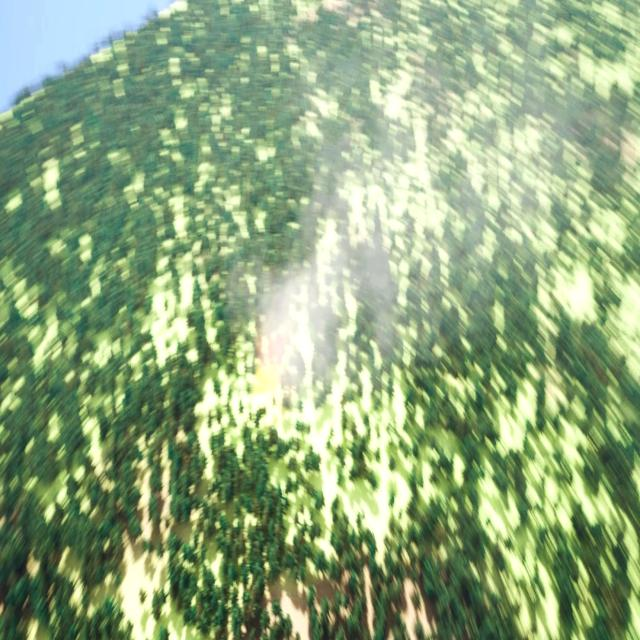fire: (250, 352, 280, 388)
smoke: (234, 21, 609, 432)
